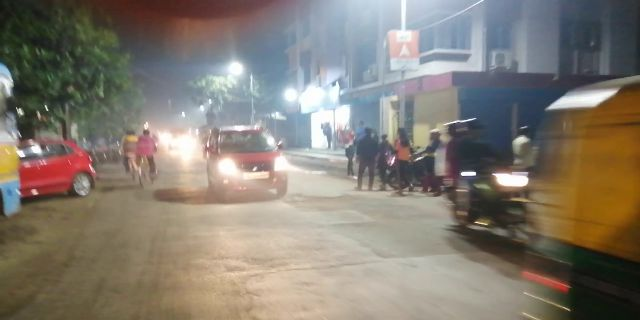Car: (210, 125, 290, 202), (20, 136, 100, 196)
Motorbike: (431, 102, 543, 247)
